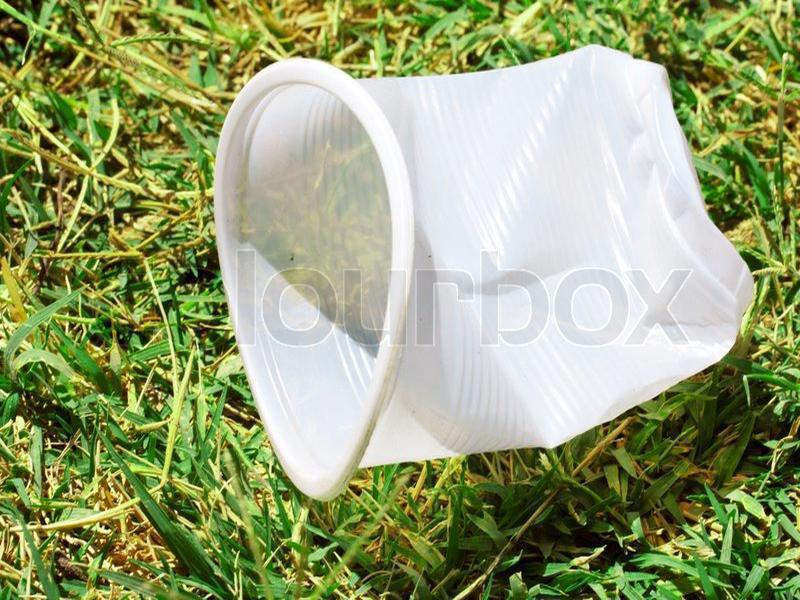cup: (212, 44, 754, 502)
